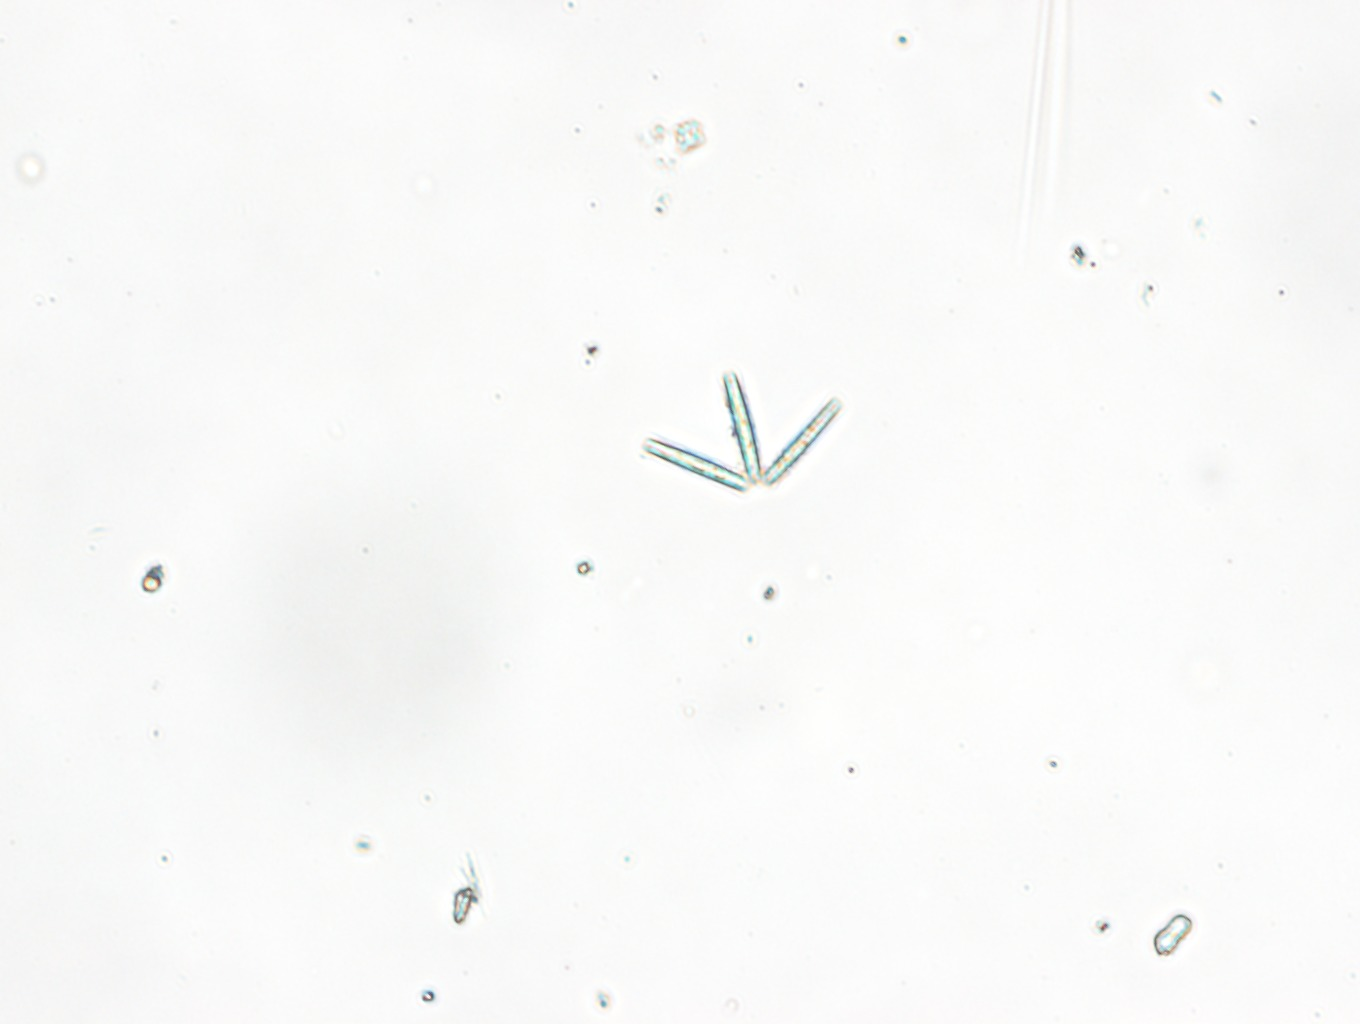thalassionema nitzschioides: (640, 367, 842, 493)
